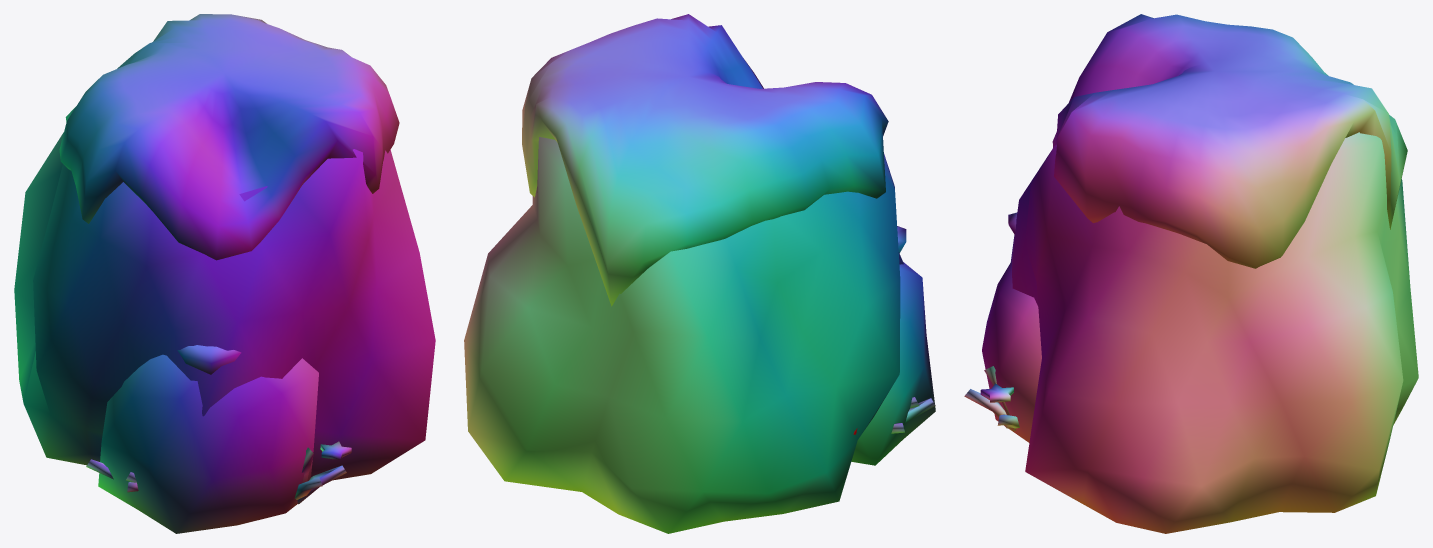
The model's file is SM_Outcrop_Plains_V0.fbx.
The picture shows the model from 3 angles, left to right: view 1: azimuth 30°, elevation 25°; view 2: azimuth 150°, elevation 25°; view 3: azimuth 270°, elevation 25°; orthographic projection. The views are drawn at different scales.
Visible parts, largest first — view 1: SM_Outcrop_Plains_V0; view 2: SM_Outcrop_Plains_V0; view 3: SM_Outcrop_Plains_V0.
Part boxes in pixels (x1,y1,x2,y2): SM_Outcrop_Plains_V0: (14, 14, 435, 533); SM_Outcrop_Plains_V0: (464, 14, 935, 533); SM_Outcrop_Plains_V0: (964, 14, 1418, 533).
Bounding box in the file's own units: 1.52 × 1.41 × 1.54.
